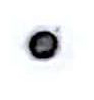cancer: (12, 11, 82, 76)
